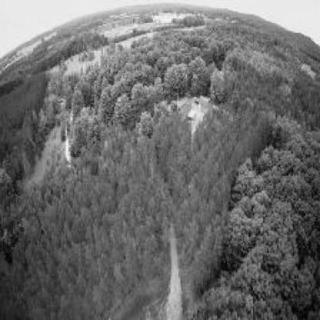other: (167, 217, 189, 311), (174, 88, 214, 134)
